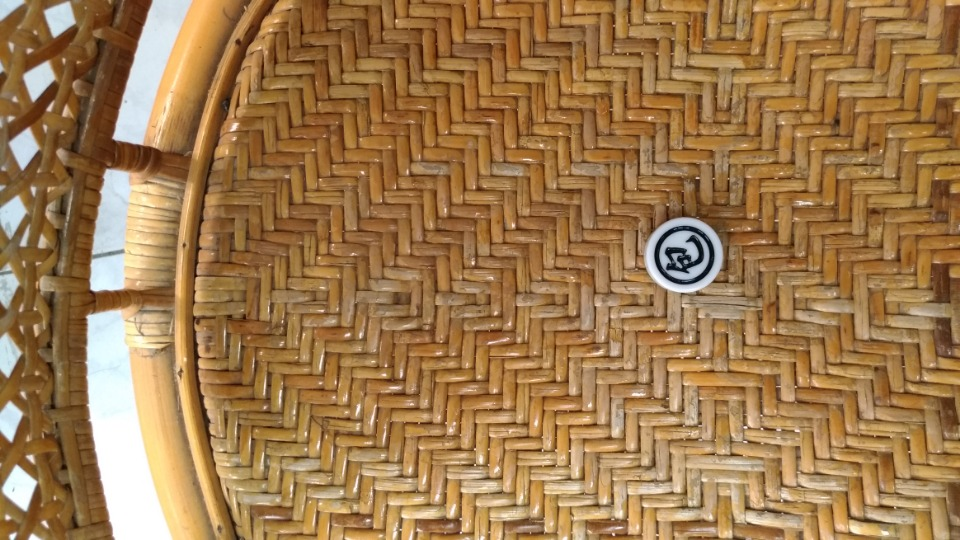b-cannon: (638, 204, 724, 308)
